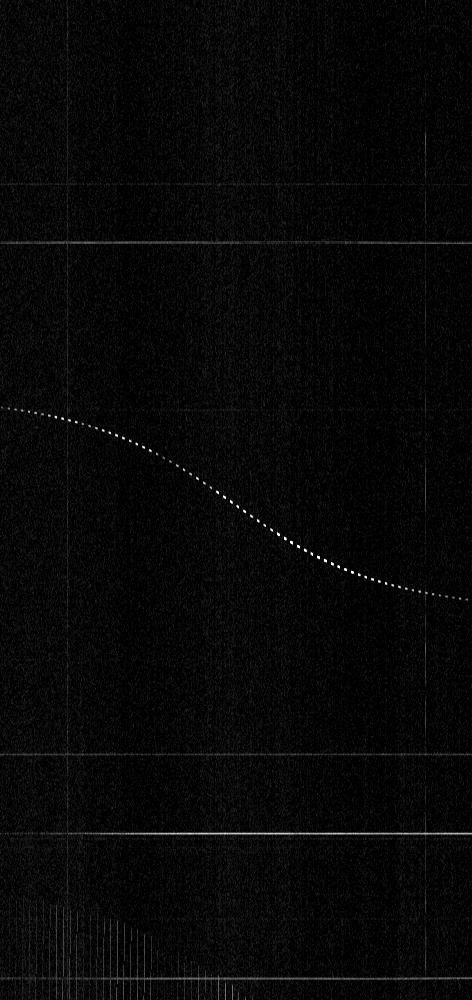signal: (0, 0, 471, 999)
